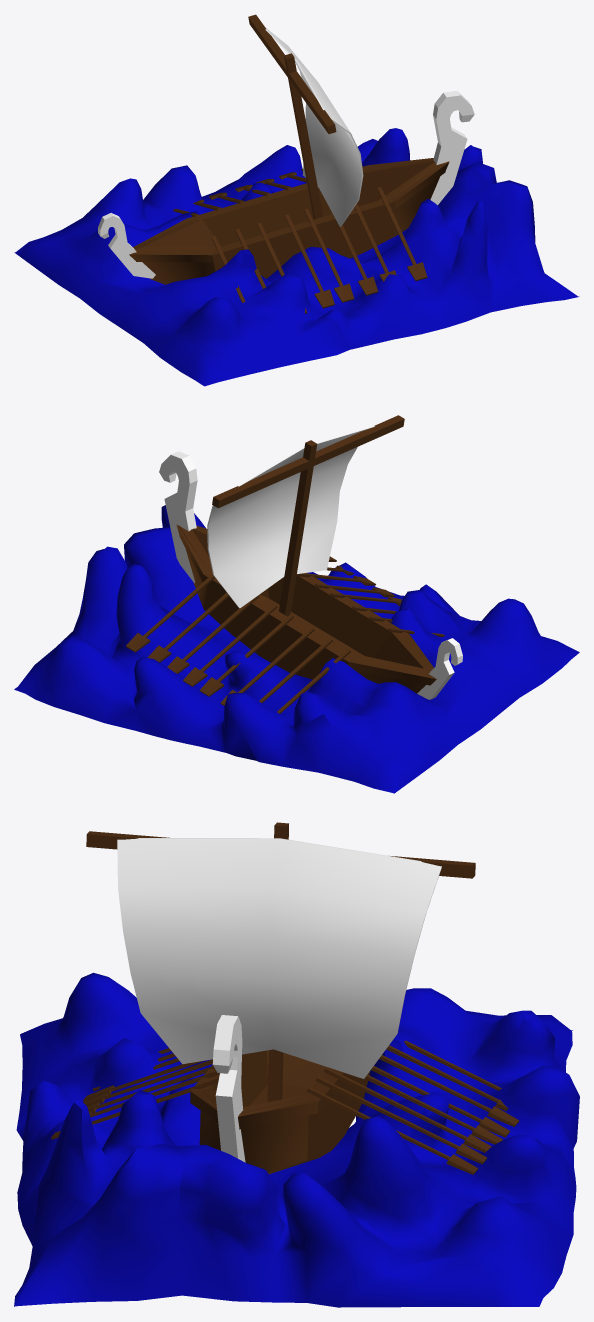
File: Longboat.FBX
The picture shows the model from 3 angles, top to bottom: view 1: azimuth 30°, elevation 25°; view 2: azimuth 150°, elevation 25°; view 3: azimuth 270°, elevation 25°; orthographic projection. The views are drawn at different scales.
Visible parts, largest first — view 1: Water, Longboat; view 2: Water, Longboat; view 3: Water, Longboat.
Part boxes in pixels (x1,y1,x2,y2): Water: [14, 128, 579, 386]; Longboat: [98, 14, 474, 313]; Water: [14, 505, 579, 793]; Longboat: [126, 415, 462, 713]; Water: [14, 972, 579, 1307]; Longboat: [51, 822, 519, 1174].
Size of the model in its own units: 282 by 159 by 242.
